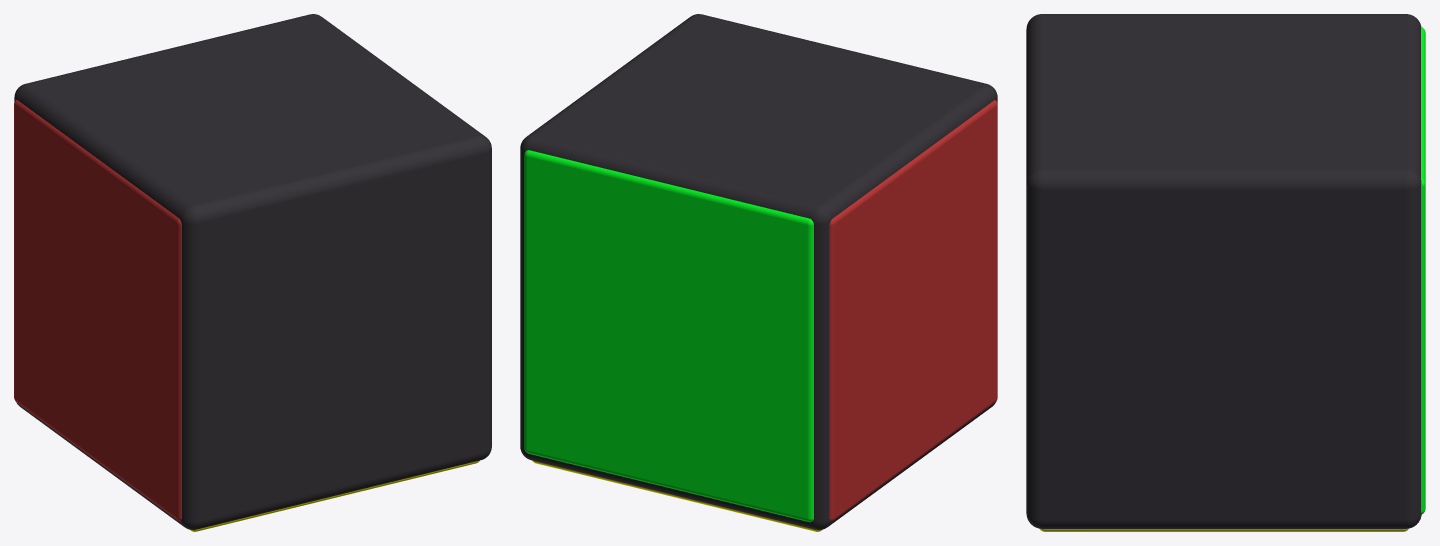
The model's file is yrgCorner.obj.
3 renders of one model, left to right at view 1: azimuth 30°, elevation 25°; view 2: azimuth 150°, elevation 25°; view 3: azimuth 270°, elevation 25°, orthographic. The views are drawn at different scales.
Visible parts, largest first — view 1: 000_Base, 001_red, 002_yellow; view 2: 003_green, 000_Base, 001_red, 002_yellow; view 3: 000_Base, 003_green, 002_yellow.
Boxes of the visible parts, x1,y1,x2,y2 form: 000_Base: [14, 14, 491, 529]; 001_red: [14, 99, 181, 521]; 002_yellow: [190, 460, 479, 531]; 003_green: [524, 150, 813, 522]; 000_Base: [520, 14, 997, 529]; 001_red: [829, 100, 997, 521]; 002_yellow: [532, 460, 822, 531]; 000_Base: [1026, 14, 1421, 528]; 003_green: [1421, 27, 1425, 514]; 002_yellow: [1039, 528, 1408, 531].
Bounding box in the file's own units: 101 × 101 × 101.
